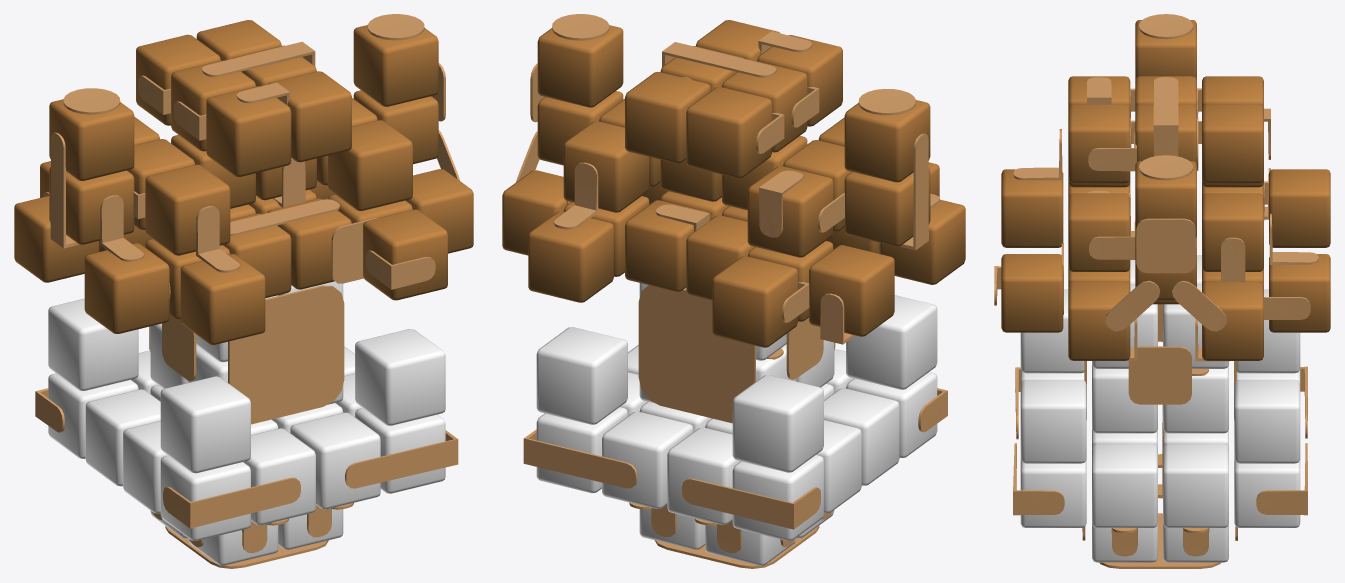
File: level_149.fbx
3 views of the same model, side by side, from view 1: azimuth 30°, elevation 25°; view 2: azimuth 150°, elevation 25°; view 3: azimuth 270°, elevation 25° (orthographic). The views are drawn at different scales.
Visible parts, largest first — view 1: Link_2, Cube_L1_36, Cube_L1_40, Cube_L3_19.049, Cube_L3_19.023, Cube_L3_19.058, Cube_L1_26, Cube_L3_19.027, Cube_L3_19.022, Cube_L3_19, Cube_L1_50, Cube_L3_19.055 (+50 smaller); view 2: Link_1, Cube_L1_13, Cube_L1_26, Cube_L3_19.031, Cube_L3_19.056, Cube_L3_19.032, Cube_L1_36, Cube_L3_19.051, Cube_L3_19, Cube_L3_19.060, Cube_L1_7, Cube_L3_19.055 (+51 smaller); view 3: Cube_L1_13, Cube_L1_40, Cube_L1_20, Cube_L1_18, Cube_L3_19.024, Cube_L3_19.060, Cube_L3_19.031, Cube_L3_19.023, Cube_L3_19.050, Cube_L3_19.052, Cube_L3_19.035, Cube_L3_19.062 (+44 smaller).
Part boxes in pixels (x1,y1,x2,y2): Link_2: (228, 285, 344, 424); Cube_L1_36: (160, 376, 250, 473); Cube_L1_40: (355, 329, 445, 425); Cube_L3_19.049: (84, 243, 169, 333); Cube_L3_19.023: (180, 254, 265, 344); Cube_L3_19.058: (206, 86, 291, 176); Cube_L1_26: (48, 298, 138, 390); Cube_L3_19.027: (328, 120, 412, 210); Cube_L3_19.022: (145, 164, 230, 255); Cube_L3_19: (353, 25, 438, 106); Cube_L1_50: (290, 412, 380, 509); Cube_L3_19.055: (49, 99, 134, 180); Link_1: (638, 285, 755, 423); Cube_L1_13: (536, 327, 627, 424); Cube_L1_26: (732, 375, 823, 472); Cube_L3_19.031: (712, 256, 797, 347); Cube_L3_19.056: (686, 86, 771, 178); Cube_L3_19.032: (528, 211, 613, 302); Cube_L1_36: (846, 295, 937, 389); Cube_L3_19.051: (809, 245, 894, 336); Cube_L3_19: (537, 25, 623, 107); Cube_L3_19.060: (625, 72, 710, 163); Cube_L1_7: (602, 411, 693, 508); Cube_L3_19.055: (844, 100, 930, 182); Cube_L1_13: (1234, 379, 1300, 463); Cube_L1_40: (1020, 379, 1086, 463); Cube_L1_20: (1092, 444, 1157, 527); Cube_L1_18: (1163, 444, 1228, 527); Cube_L3_19.024: (1001, 254, 1063, 332); Cube_L3_19.060: (1202, 104, 1263, 183); Cube_L3_19.031: (1269, 169, 1330, 247); Cube_L3_19.023: (1001, 169, 1063, 247); Cube_L3_19.050: (1068, 282, 1130, 360); Cube_L3_19.052: (1202, 282, 1263, 360); Cube_L3_19.035: (1202, 193, 1263, 271); Cube_L3_19.062: (1068, 104, 1130, 183).
Size of the model in its own units: 12.87 by 15.49 by 10.57.
